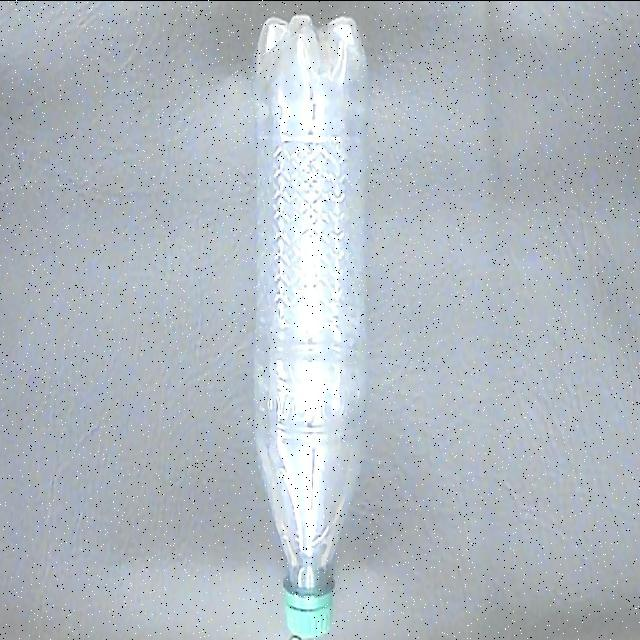plastic: (246, 8, 375, 636)
